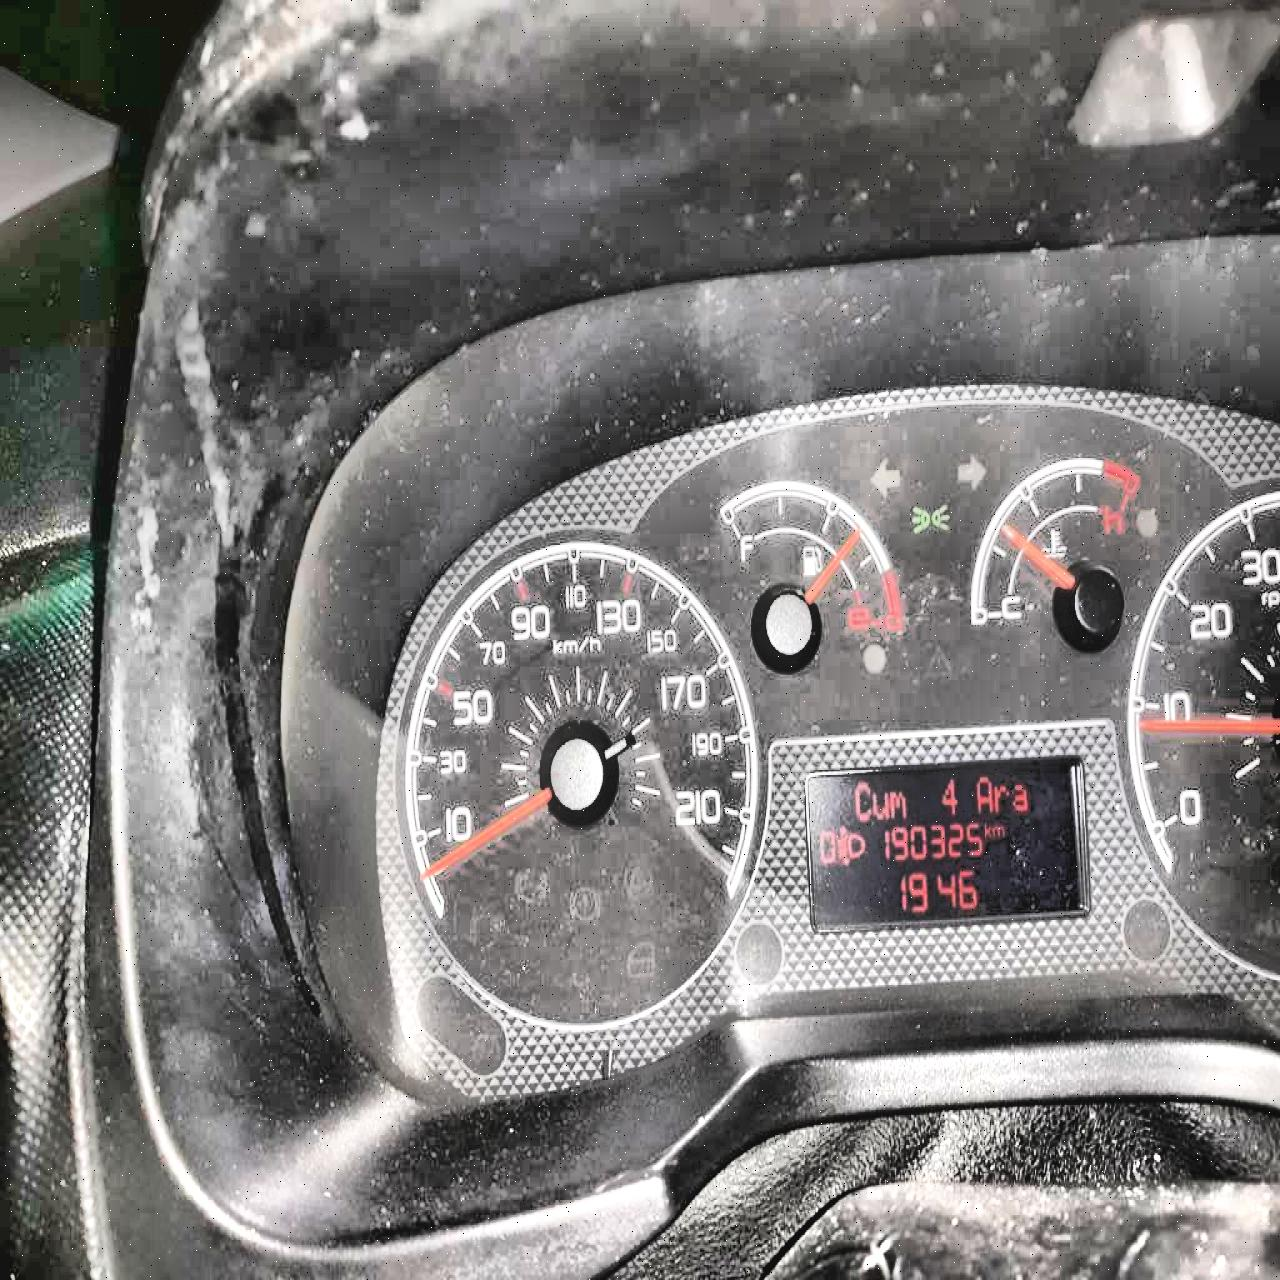0: (817, 826, 837, 865), (907, 823, 927, 862)
1: (894, 871, 907, 912), (879, 823, 891, 862)
2: (946, 819, 964, 858)
3: (926, 821, 946, 860)
4: (938, 774, 958, 817), (935, 869, 956, 908)
5: (964, 818, 981, 857)
6: (956, 865, 979, 912)
9: (907, 869, 931, 913), (890, 823, 907, 862)
X: (851, 778, 871, 824), (974, 774, 993, 815), (887, 787, 907, 821), (1010, 779, 1029, 813), (993, 779, 1009, 813), (871, 788, 887, 819), (990, 822, 1005, 838), (982, 818, 989, 838)
odometer: (799, 754, 1091, 937)
